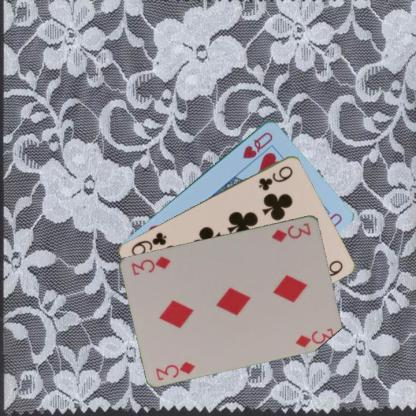3d: (153, 358, 197, 381), (269, 220, 312, 243)
9c: (256, 163, 295, 192)
Qh: (240, 129, 274, 159)
